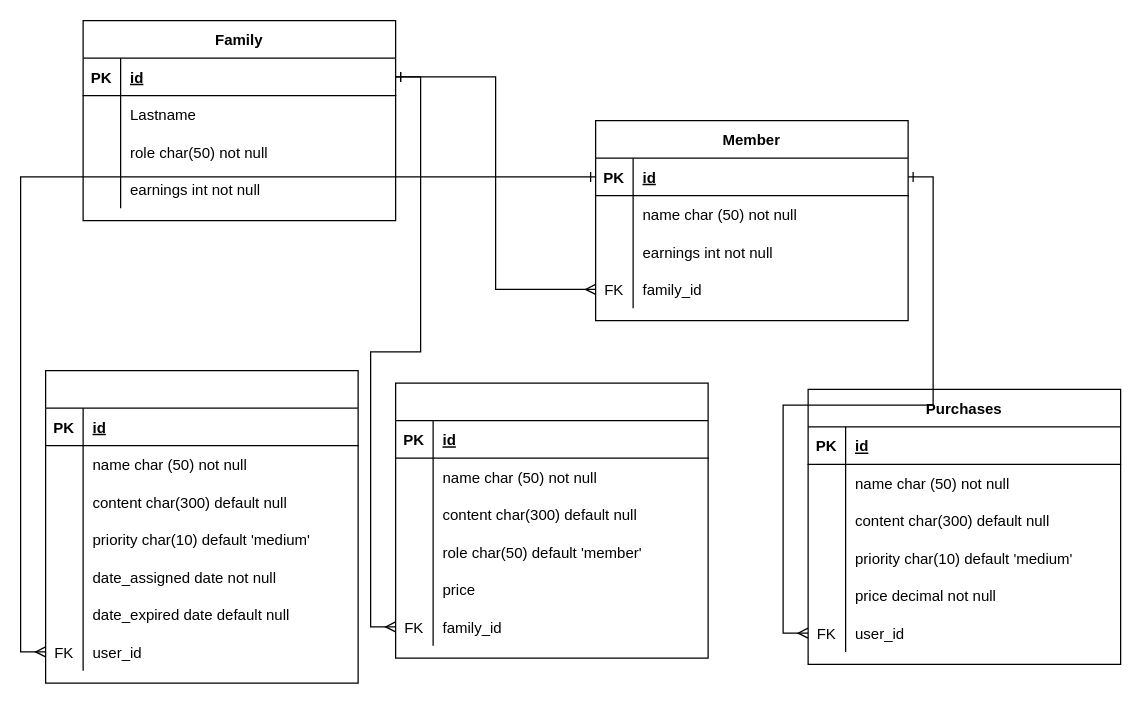
Some shapes in this 1141 by 704 pixel diagram are drawn without their labels. The box of each missing label's shape, as (x1, y1, x2, y2) in pixels:
Budget: (394, 382, 708, 658)
Tasks: (44, 369, 358, 683)
